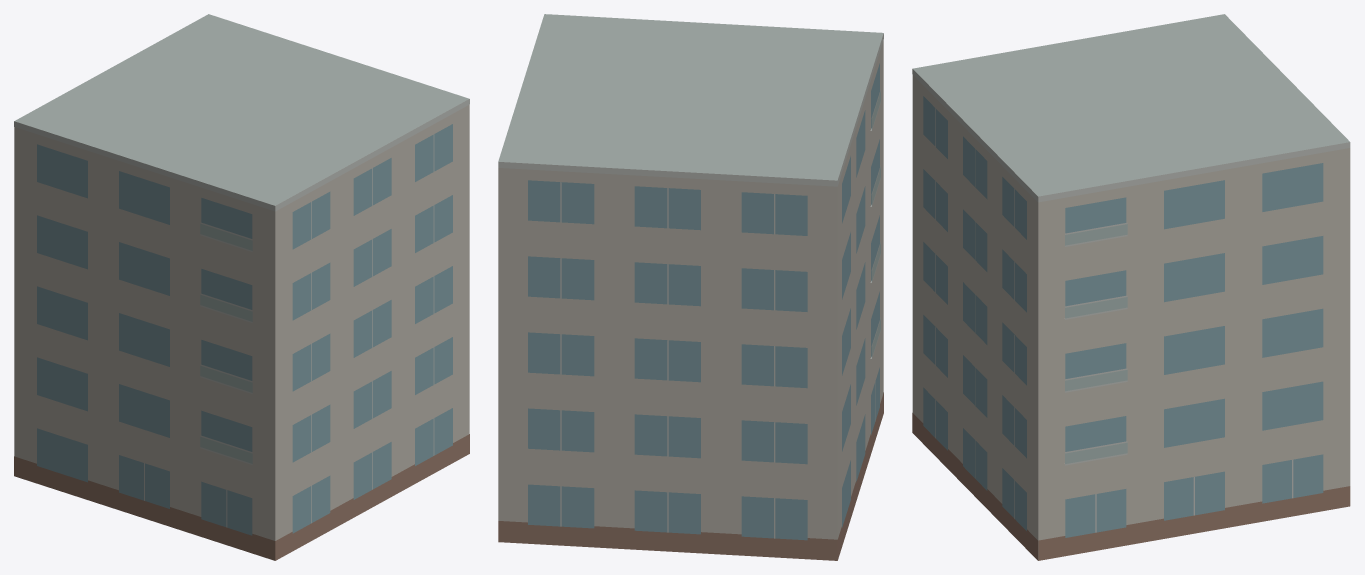
File: residential-ff0b253a-6f23-479f-8b9f-9ae4b4a181eb.glb
3 views of the same model, side by side, from view 1: azimuth 30°, elevation 25°; view 2: azimuth 150°, elevation 25°; view 3: azimuth 270°, elevation 25° (orthographic). The views are drawn at different scales.
Visible parts, largest first — view 1: residential-ff0b253a-6f23-479f-8b9f-9ae4b4a181eb.tmp; view 2: residential-ff0b253a-6f23-479f-8b9f-9ae4b4a181eb.tmp; view 3: residential-ff0b253a-6f23-479f-8b9f-9ae4b4a181eb.tmp.
Boxes of the visible parts, box(x1,y1,x2,y2) form: residential-ff0b253a-6f23-479f-8b9f-9ae4b4a181eb.tmp: box(14, 14, 469, 560); residential-ff0b253a-6f23-479f-8b9f-9ae4b4a181eb.tmp: box(498, 14, 883, 560); residential-ff0b253a-6f23-479f-8b9f-9ae4b4a181eb.tmp: box(912, 14, 1350, 560).
Size of the model in its own units: 16.4 by 15.25 by 16.62.
